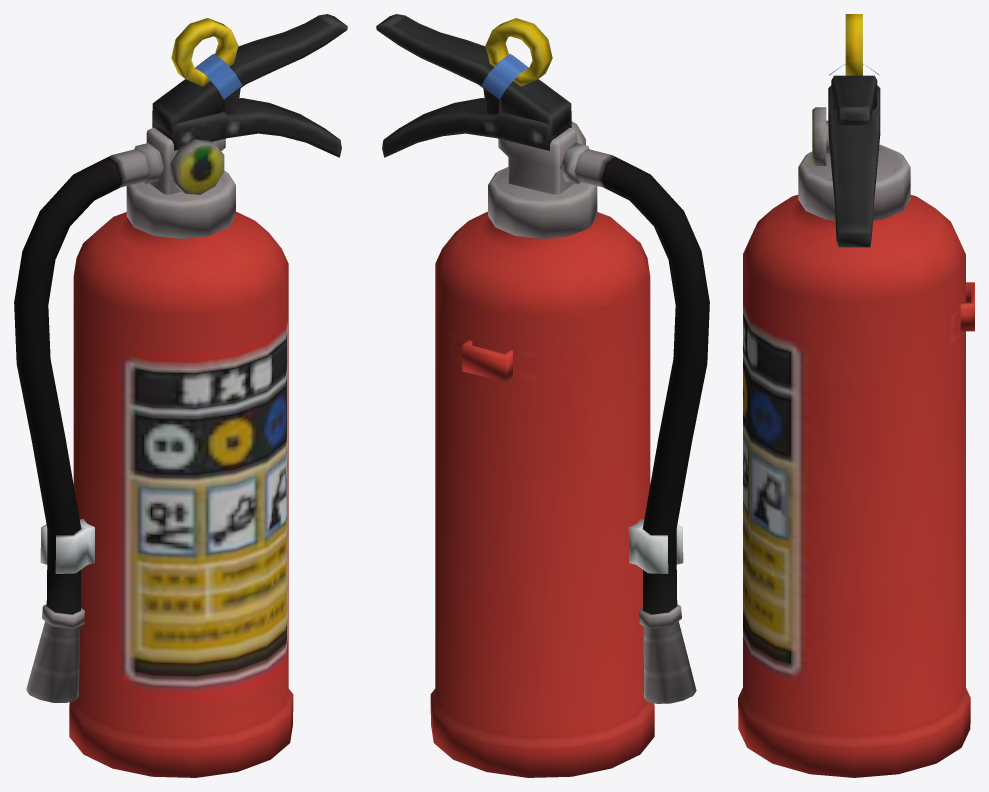
3 renders of one model, left to right at view 1: azimuth 30°, elevation 25°; view 2: azimuth 150°, elevation 25°; view 3: azimuth 270°, elevation 25°, orthographic. The views are drawn at different scales.
Size of the model in its own units: 4.76 by 9.97 by 2.94.
Materials: 1 (1 with a texture image).
